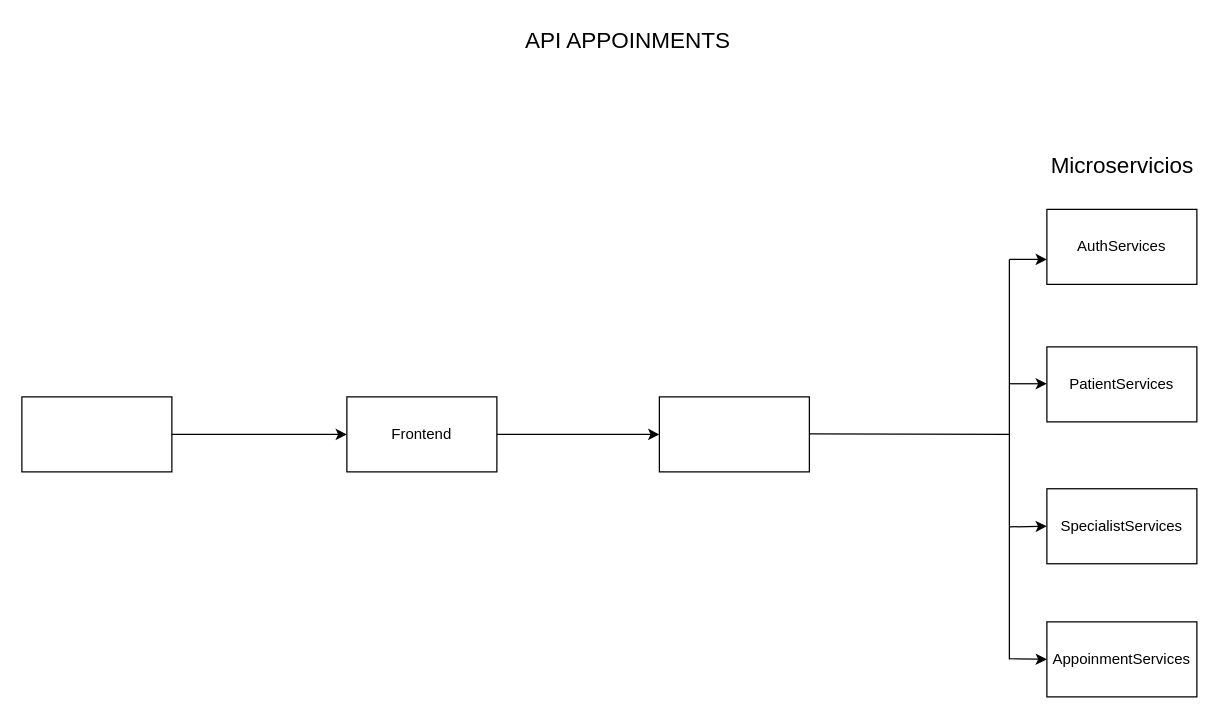
Some shapes in this 1231 by 719 pixel diagram are drawn without their labels. The centre of each missing label's shape, as x and y in pixels:
"Cliente" belongs at (96,434).
"Gateway" belongs at (733,434).
